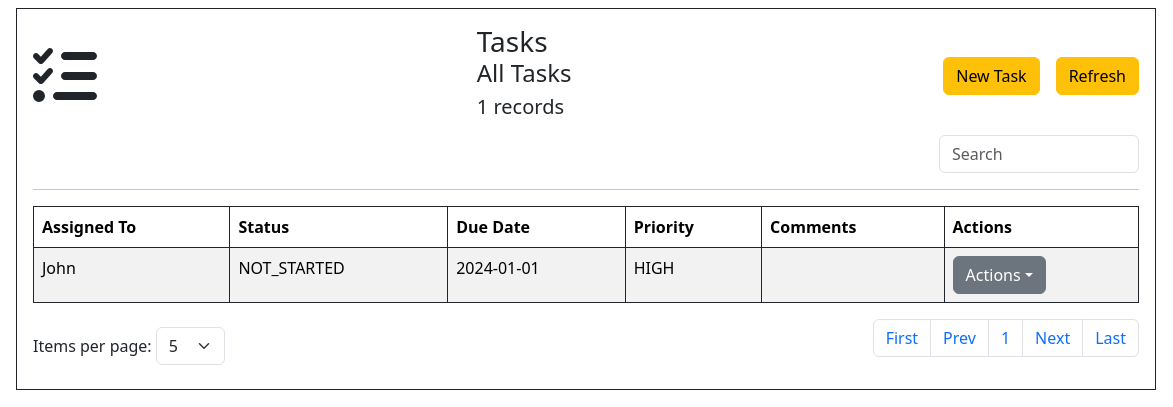
Test: TaskManager Pagination and Refresh Tests › refreshes tasks when refresh button is clicked
The image size is (1173, 407).
Expected: the text "John" is shown, x1=34 y1=248 x2=230 y2=303
Click the button "Refresh" at coordinates (1097, 76), box x1=1056 y1=57 x2=1139 y2=95
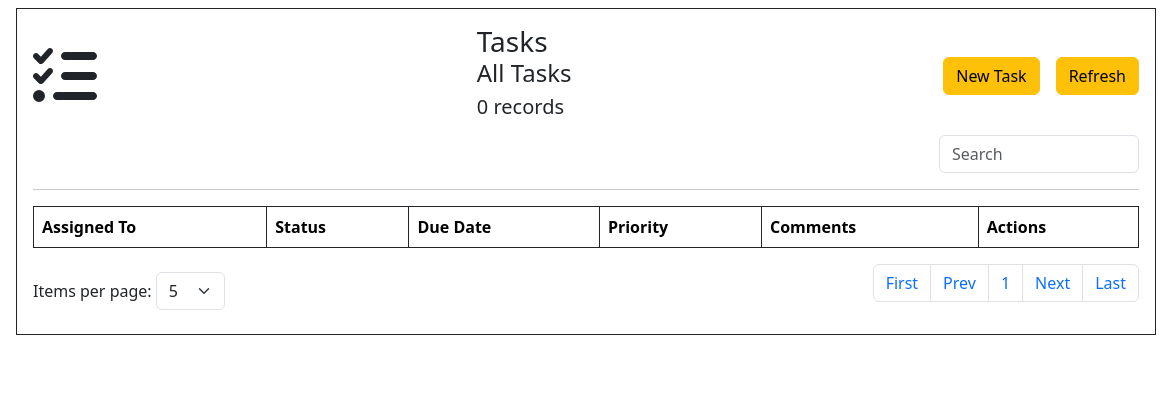
Expected: the text "John" is gone
